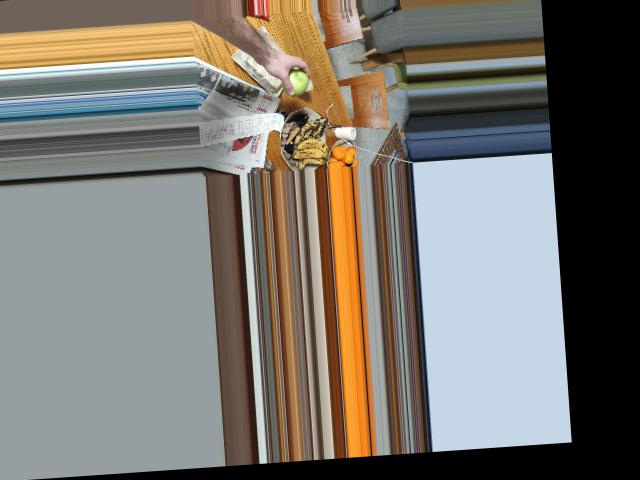apple: (272, 62, 308, 95)
